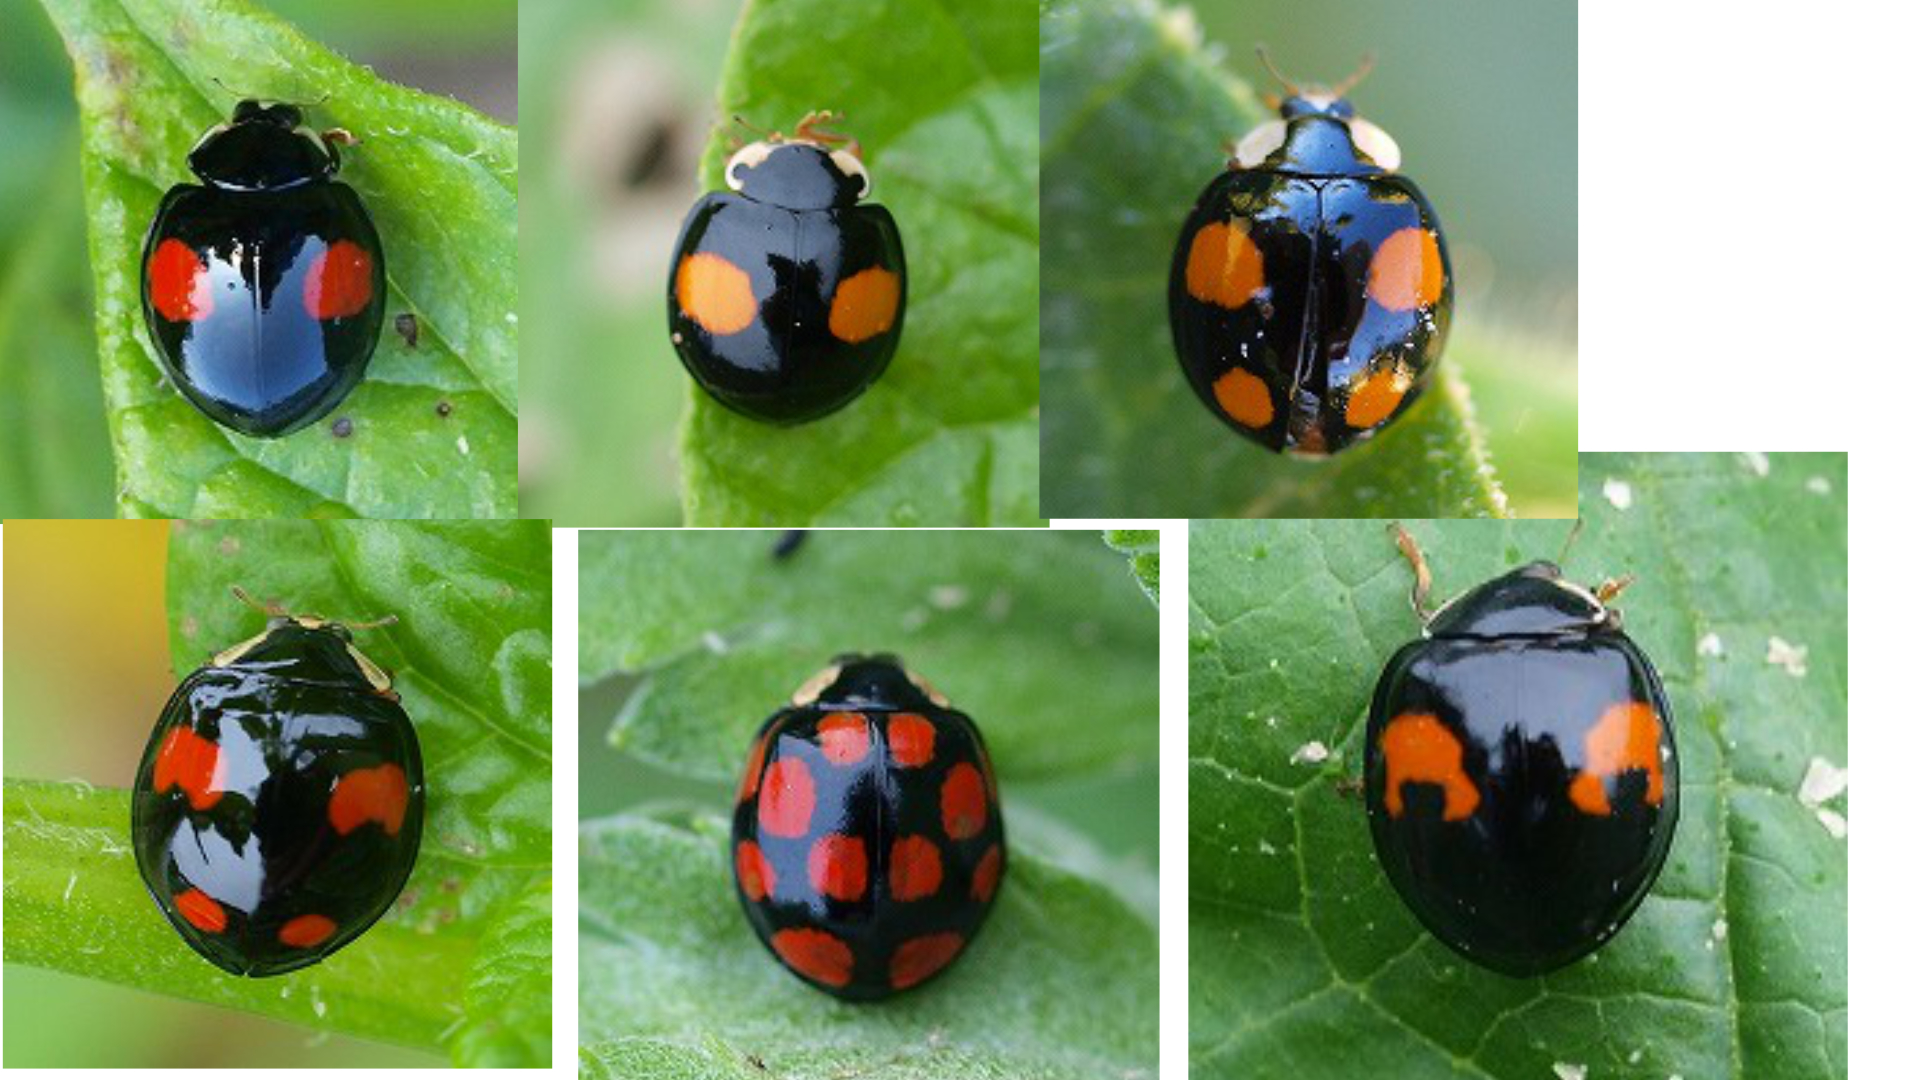rash: (723, 653, 1007, 996)
two_spots: (1361, 553, 1689, 959), (140, 98, 385, 436), (663, 127, 910, 429)
two_spots_mutant: (119, 611, 431, 982), (1164, 98, 1452, 460)
